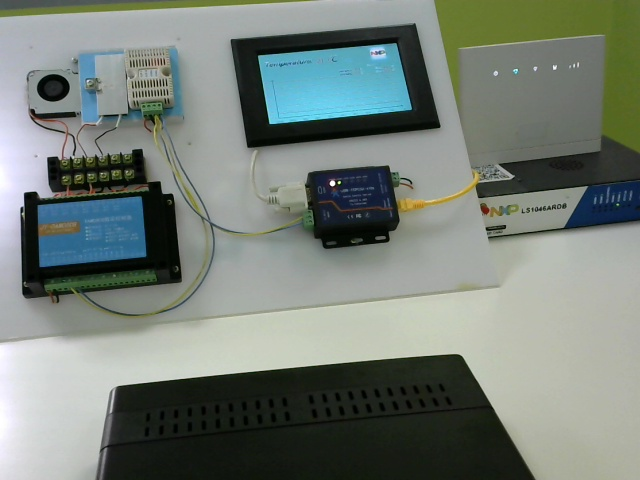fan: (16, 63, 80, 118)
heater: (90, 48, 129, 123)
modbus bridge: (298, 164, 406, 249)
relay: (13, 186, 205, 300)
termperature: (125, 46, 179, 118)
